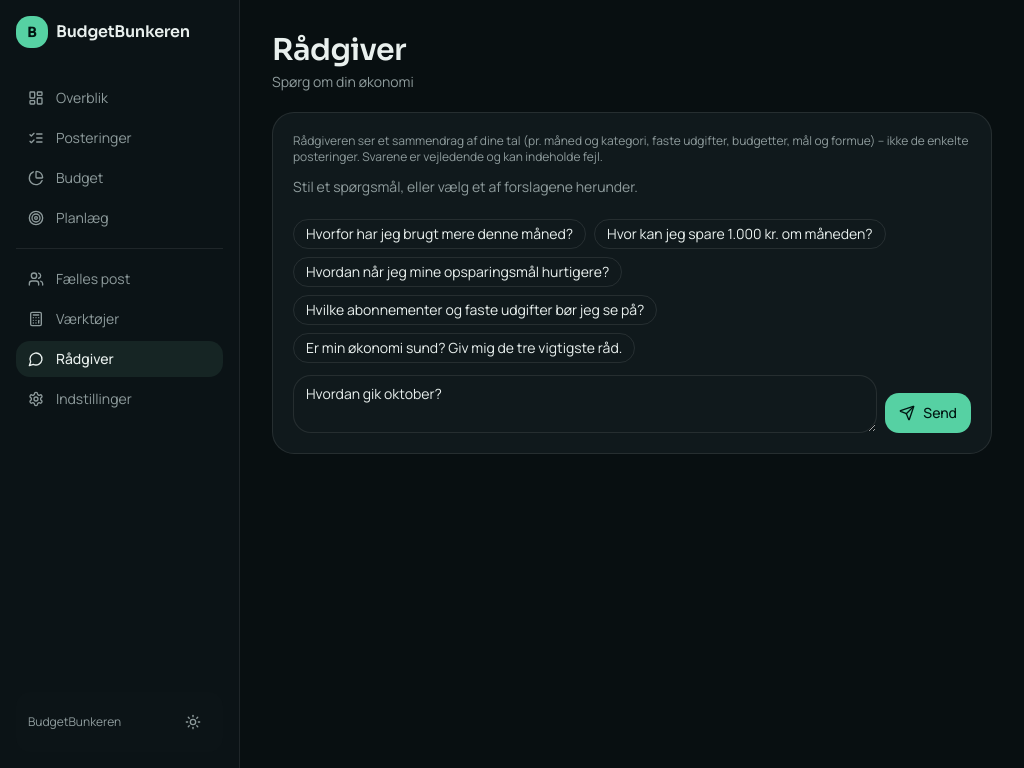
Test: Ny app – det, der før kun var i den klassiske › Rådgiver: sender spørgsmål med sammendrag og viser svaret formateret
Expected: the text box named "Dit spørgsmål" holds "Hvordan gik oktober?", 293,375 -> 877,433
Click the button "Send" at (928, 413), box 885,393 -> 971,433
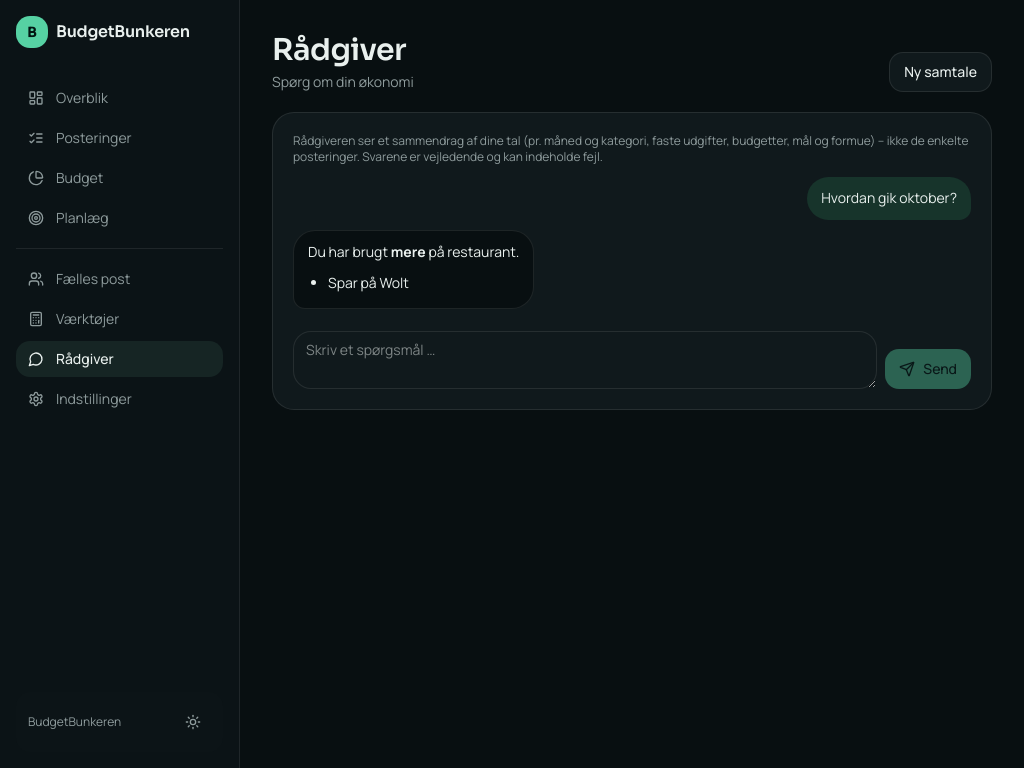
Now the text "Hvordan gik oktober?" is shown, box 807,177 -> 971,220
